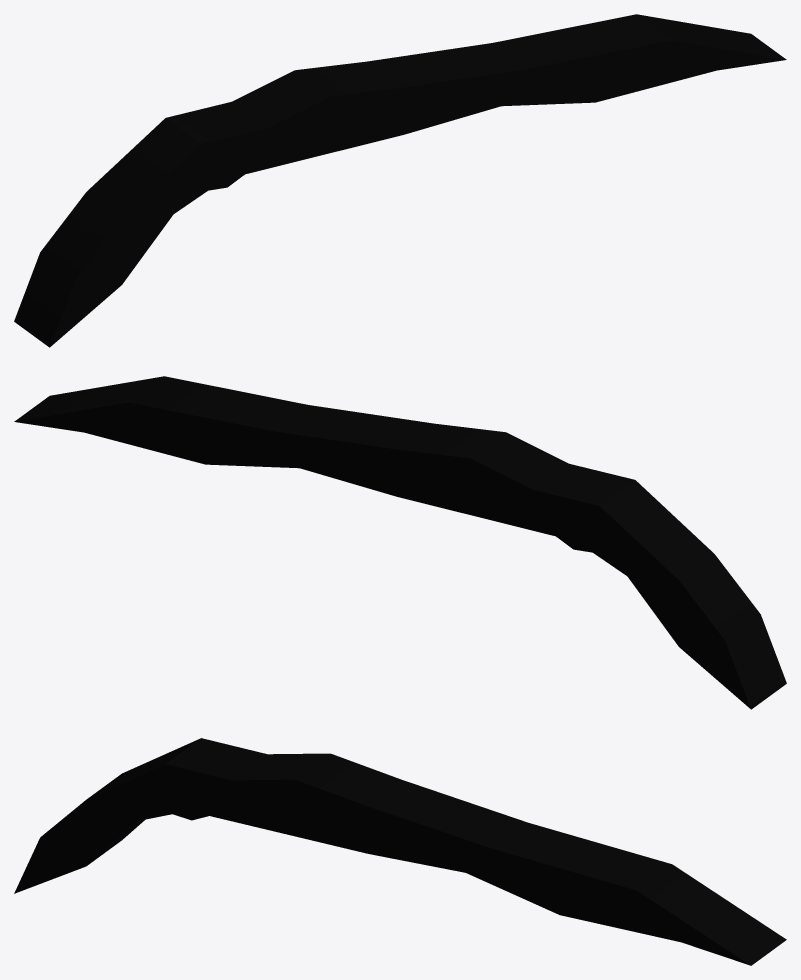
File: elf_eyebrow_R.fbx
The picture shows the model from 3 angles, top to bottom: view 1: azimuth 30°, elevation 25°; view 2: azimuth 150°, elevation 25°; view 3: azimuth 330°, elevation 25°; orthographic projection.
Parts seen in each view (by area): view 1: elf_eyebrow_R; view 2: elf_eyebrow_R; view 3: elf_eyebrow_R.
Part boxes in pixels (bbox=[...]): elf_eyebrow_R: bbox=[14, 14, 786, 347]; elf_eyebrow_R: bbox=[14, 376, 786, 709]; elf_eyebrow_R: bbox=[14, 738, 786, 965].
Bounding box in the file's own units: 12.24 × 2.9 × 1.03.
1 material, 1 textured.
